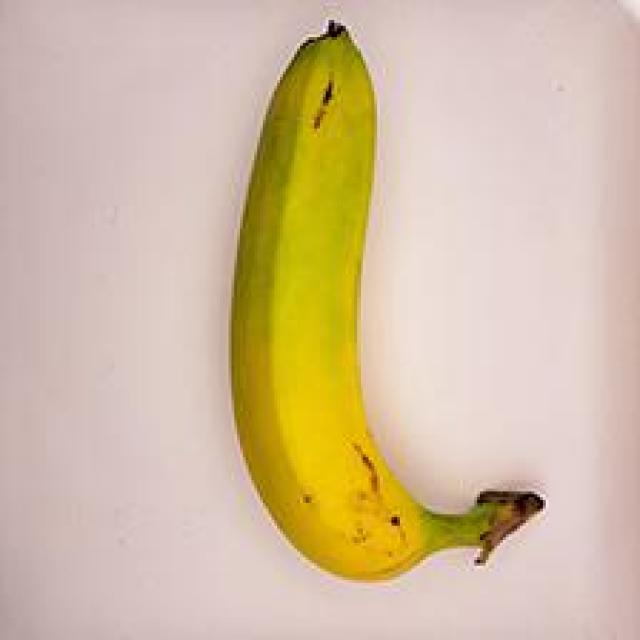unripe: (206, 21, 547, 584)
